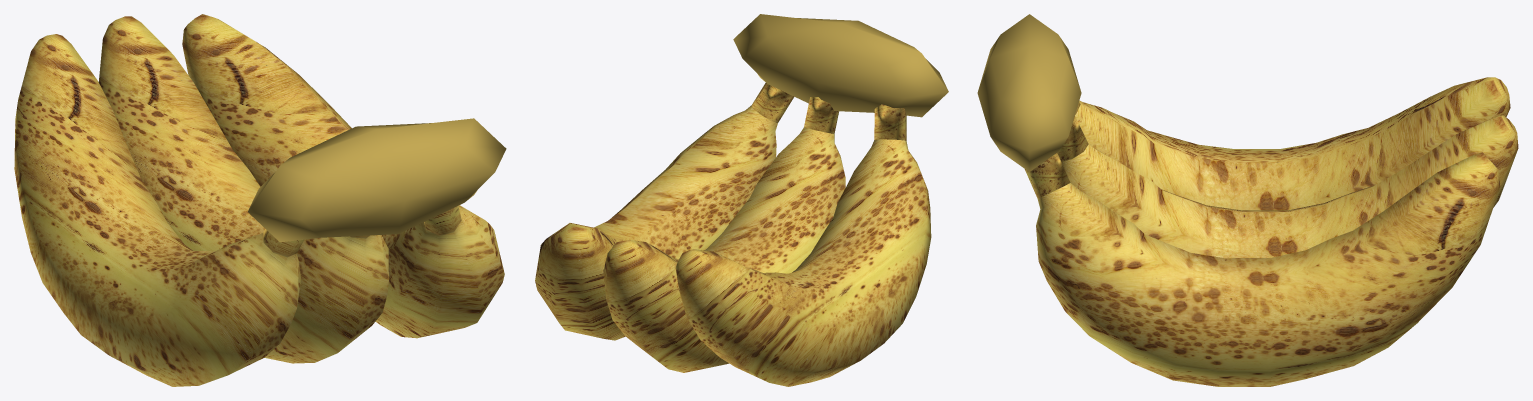
Rendered from banana 602v.fbx.
3 renders of one model, left to right at view 1: azimuth 30°, elevation 25°; view 2: azimuth 150°, elevation 25°; view 3: azimuth 270°, elevation 25°, orthographic. The views are drawn at different scales.
Visible parts, largest first — view 1: Banana 3; view 2: Banana 3; view 3: Banana 3.
Boxes of the visible parts, x1,y1,x2,y2 form: Banana 3: (14,14,506,386); Banana 3: (535,14,948,386); Banana 3: (977,14,1518,386).
Bounding box in the file's own units: 718 × 598 × 1039.
